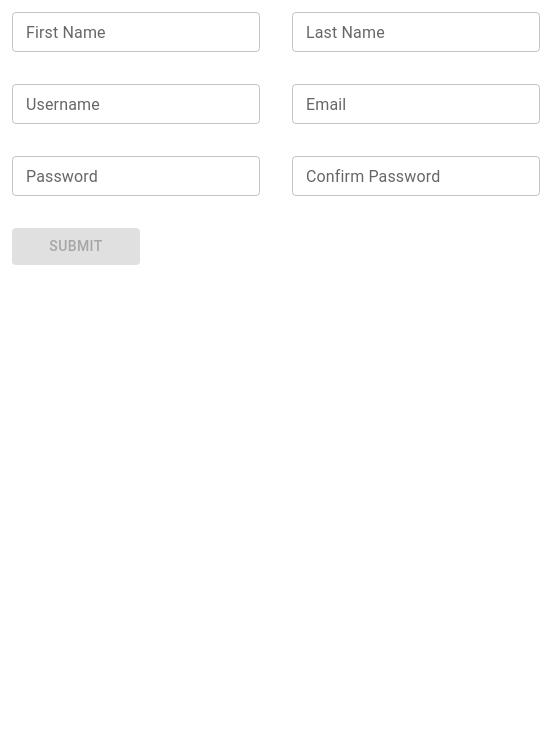
Test: SignupForm › should render error message when authentication fails
The width and height of the screenshot is (557, 732).
In the field labelled "First Name": (136, 32) 12,12 -> 260,52, type "fname"
In the field labelled "Last Name": (416, 32) 292,12 -> 540,52, type "lname"
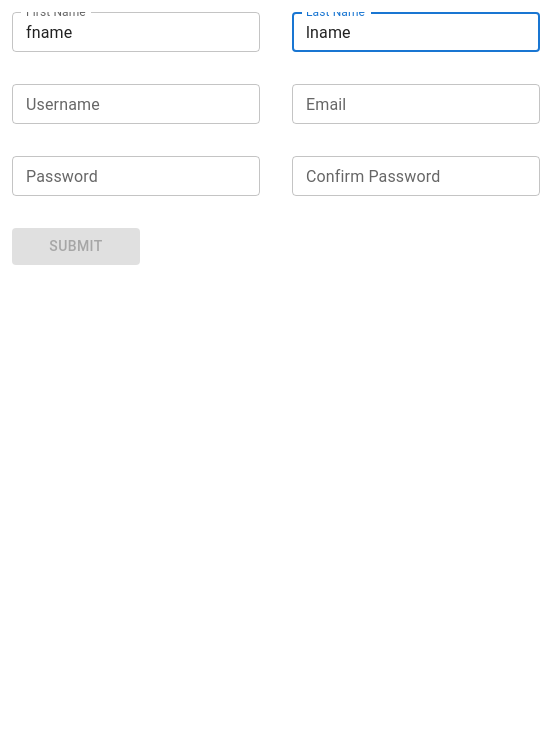
In the field labelled "Username": (136, 104) 12,84 -> 260,124, type "username"
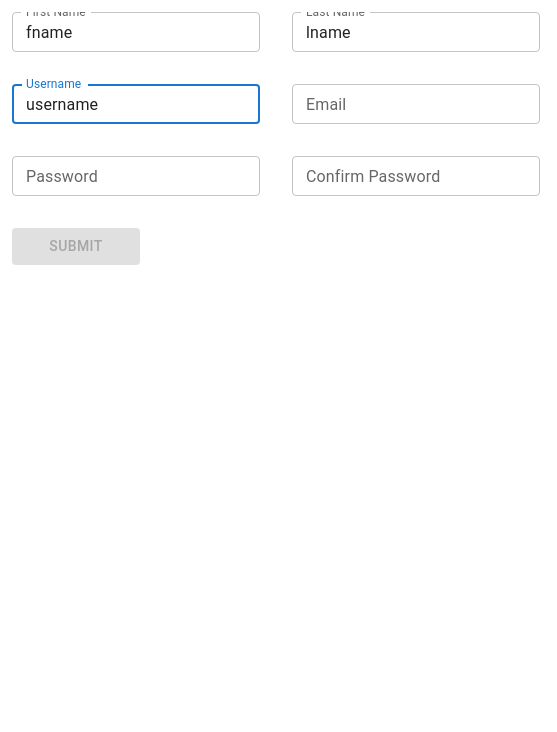
In the field labelled "Email": (416, 104) 292,84 -> 540,124, type "email@email.com"
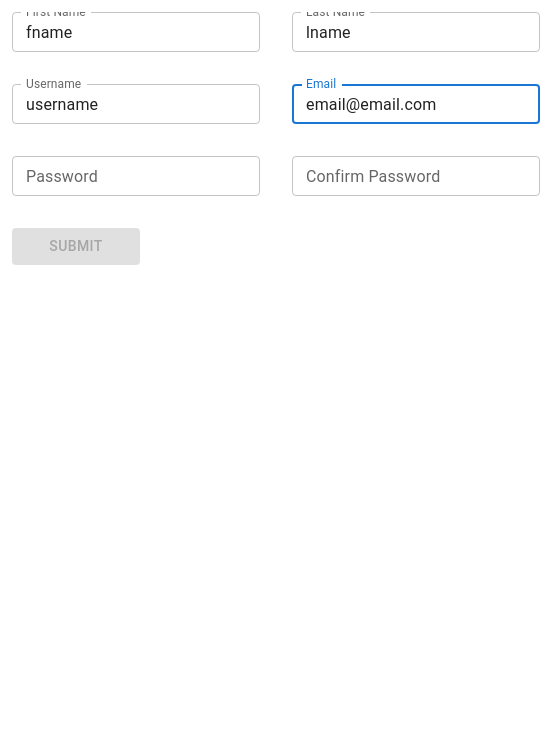
In the password field labelled "Password": (136, 176) 12,156 -> 260,196, type "Password123/"
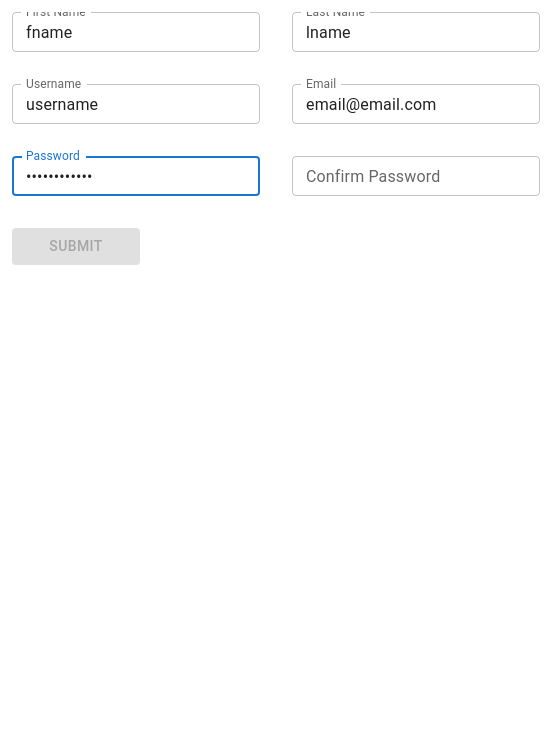
In the password field labelled "Confirm Password": (416, 176) 292,156 -> 540,196, type "Password123/"
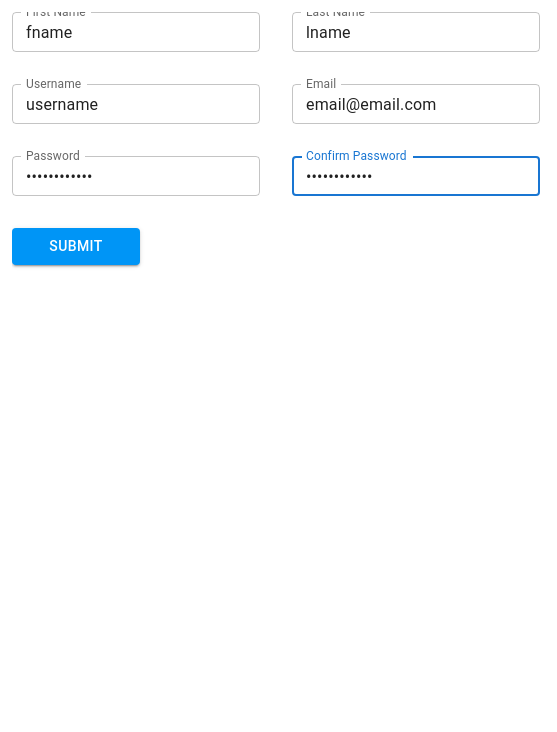
Click the button "Submit": (76, 246) 12,228 -> 140,264
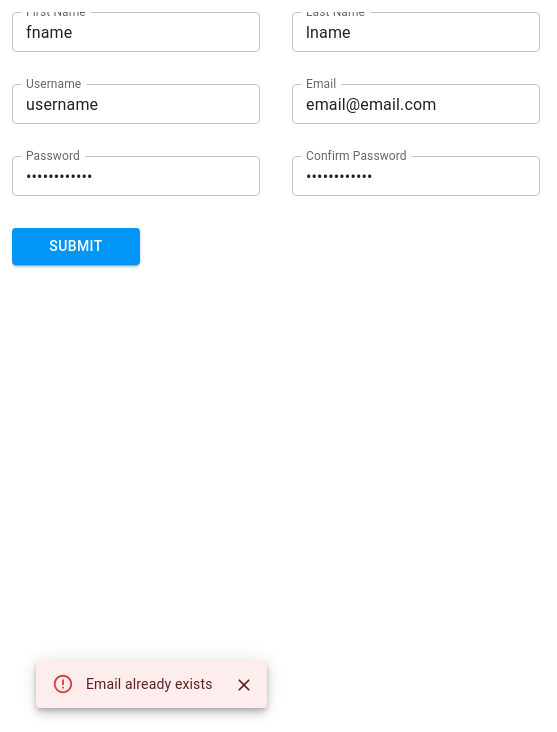
Check: the text "Email already exists" is shown, box 86,676 -> 213,692
